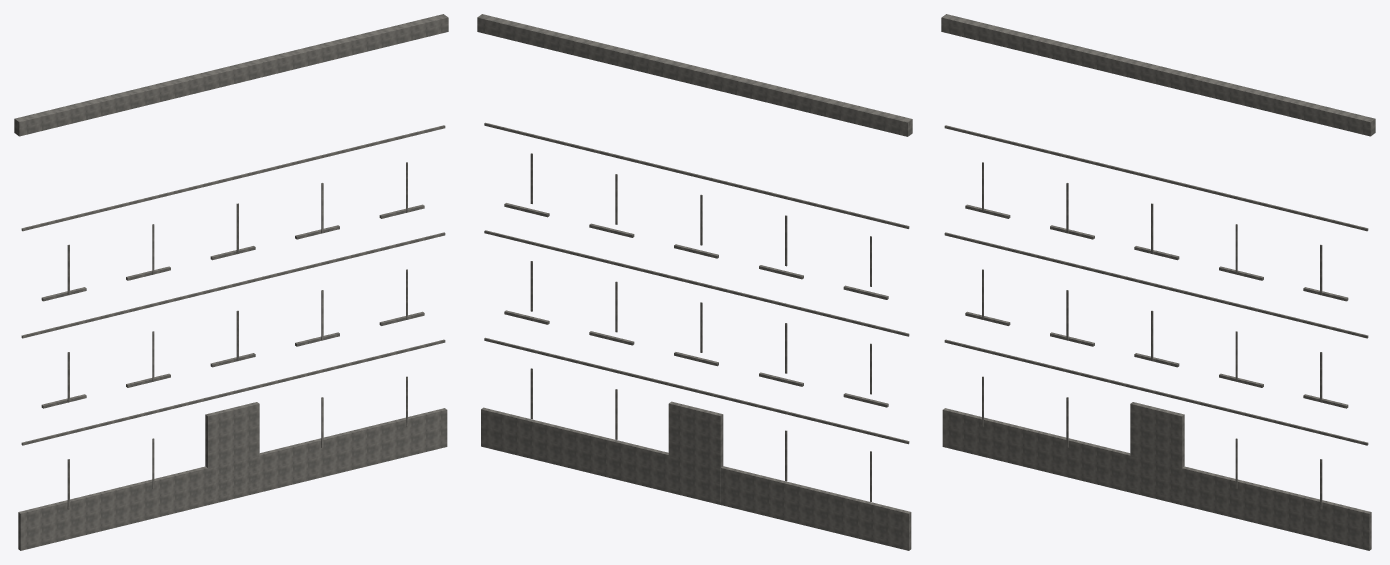
File: Street_BlockR2_Trim.obj
3 renders of one model, left to right at view 1: azimuth 30°, elevation 25°; view 2: azimuth 150°, elevation 25°; view 3: azimuth 330°, elevation 25°, orthographic.
Size of the model in its own units: 13.2 by 12.61 by 0.485.
1 material, 1 textured.
